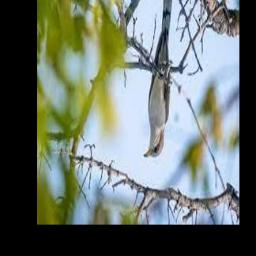Cuckoo: (143, 0, 172, 159)
